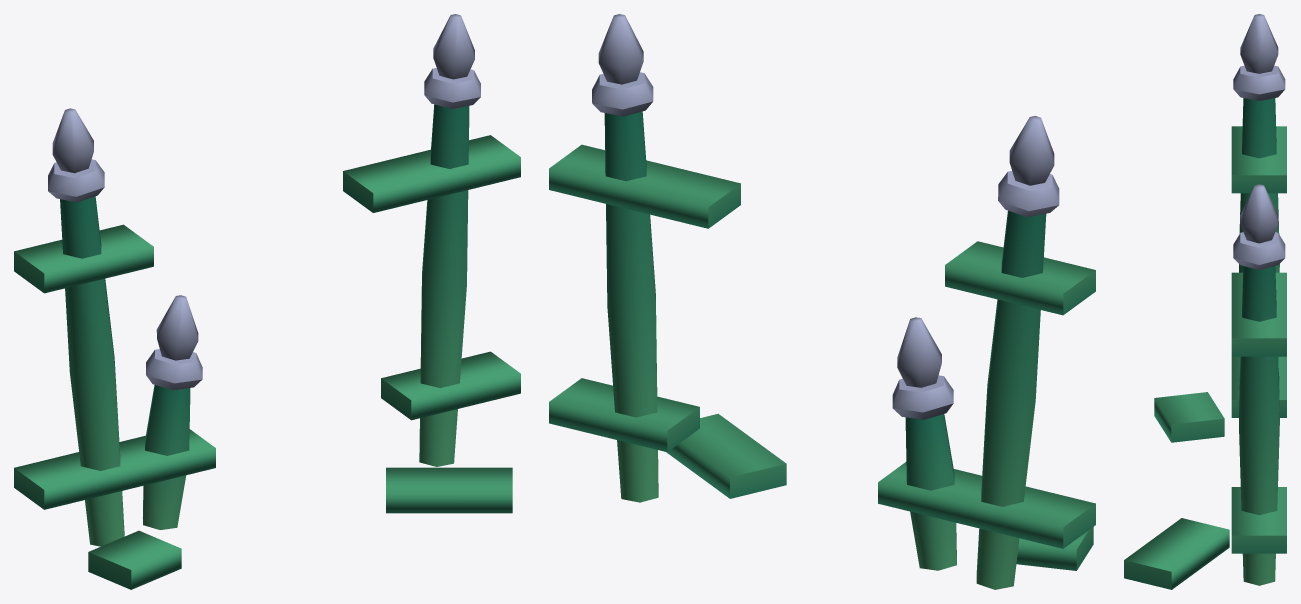
Rendered from K_iron-fence-damaged.glb.
3 renders of one model, left to right at view 1: azimuth 30°, elevation 25°; view 2: azimuth 150°, elevation 25°; view 3: azimuth 270°, elevation 25°, orthographic. The views are drawn at different scales.
Parts seen in each view (by area): view 1: iron-fence-damaged; view 2: iron-fence-damaged; view 3: iron-fence-damaged.
Boxes of the visible parts, left/top/right/bottom form: iron-fence-damaged: left=14, top=14, right=520, bottom=589; iron-fence-damaged: left=549, top=14, right=1095, bottom=589; iron-fence-damaged: left=1124, top=14, right=1286, bottom=589.
Bounding box in the file's own units: 1 × 0.8805 × 0.3249.
